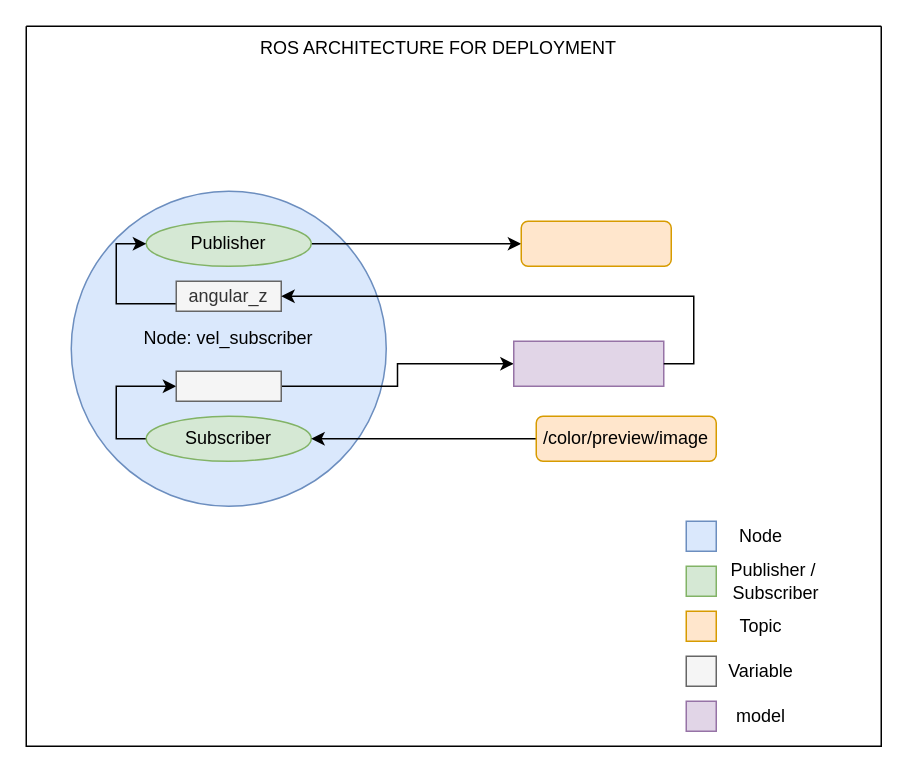
The diagram is 908 pixels wide and 773 high, and some of its shapes have lost their labels. The centre of each missing label's shape, as x and y in pixels:
/cmd_vel: the point at 595,243
Image: the point at 228,385
Model.h: the point at 588,363
